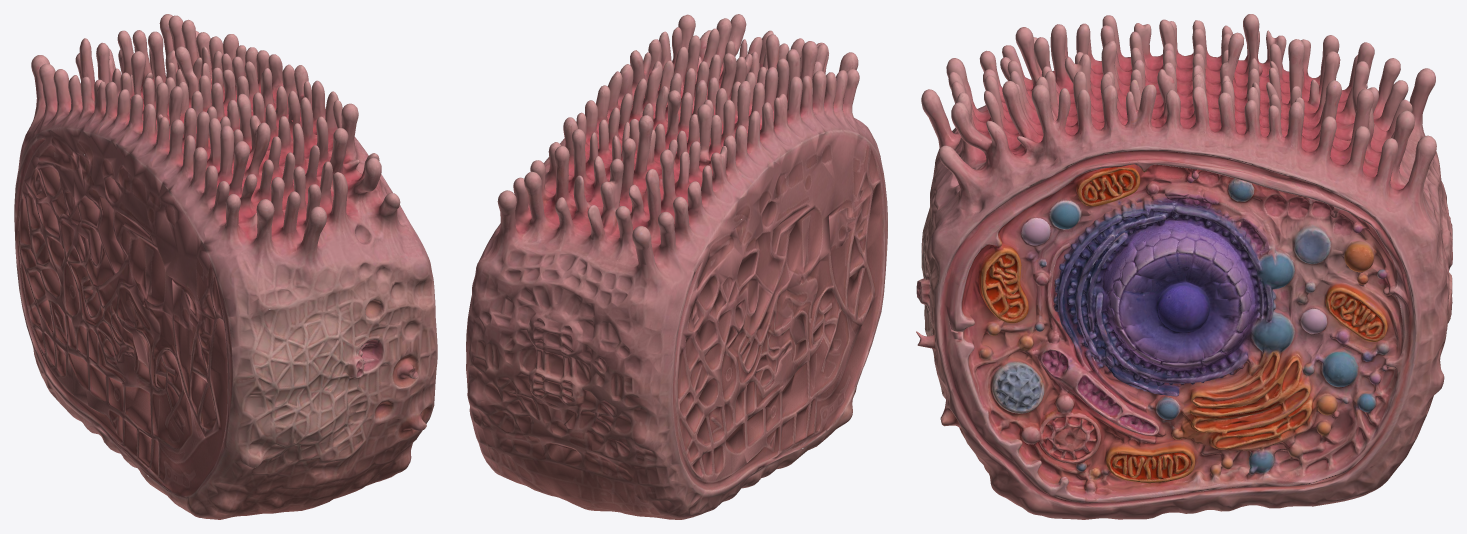
The model's file is epithelial-cell.glb.
3 renders of one model, left to right at view 1: azimuth 30°, elevation 25°; view 2: azimuth 150°, elevation 25°; view 3: azimuth 270°, elevation 25°, orthographic. The views are drawn at different scales.
Parts seen in each view (by area): view 1: tripo_node_dc44beb1-e1a1-4650-9337-fbe418b7b154; view 2: tripo_node_dc44beb1-e1a1-4650-9337-fbe418b7b154; view 3: tripo_node_dc44beb1-e1a1-4650-9337-fbe418b7b154.
Part boxes in pixels (x1,y1,x2,y2): tripo_node_dc44beb1-e1a1-4650-9337-fbe418b7b154: (14,14,437,519); tripo_node_dc44beb1-e1a1-4650-9337-fbe418b7b154: (466,14,887,519); tripo_node_dc44beb1-e1a1-4650-9337-fbe418b7b154: (916,14,1452,519).
Bounding box in the file's own units: 0.5037 × 0.8979 × 0.9994.
1 material, 1 textured.
